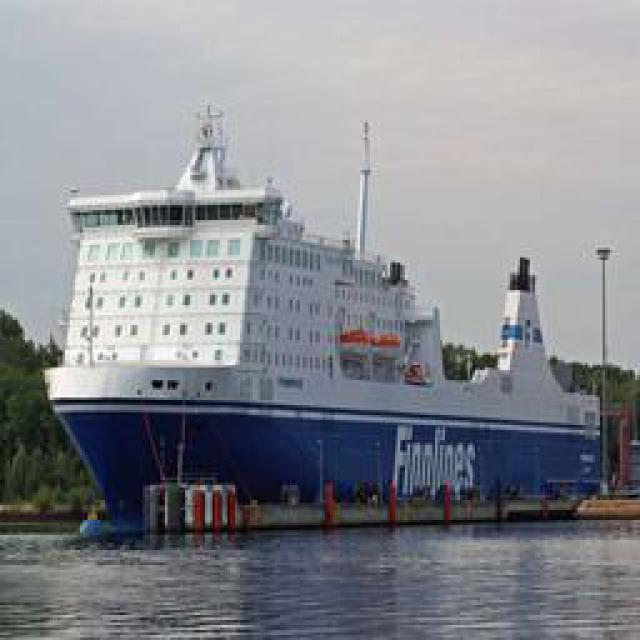Ship: (37, 94, 615, 529)
